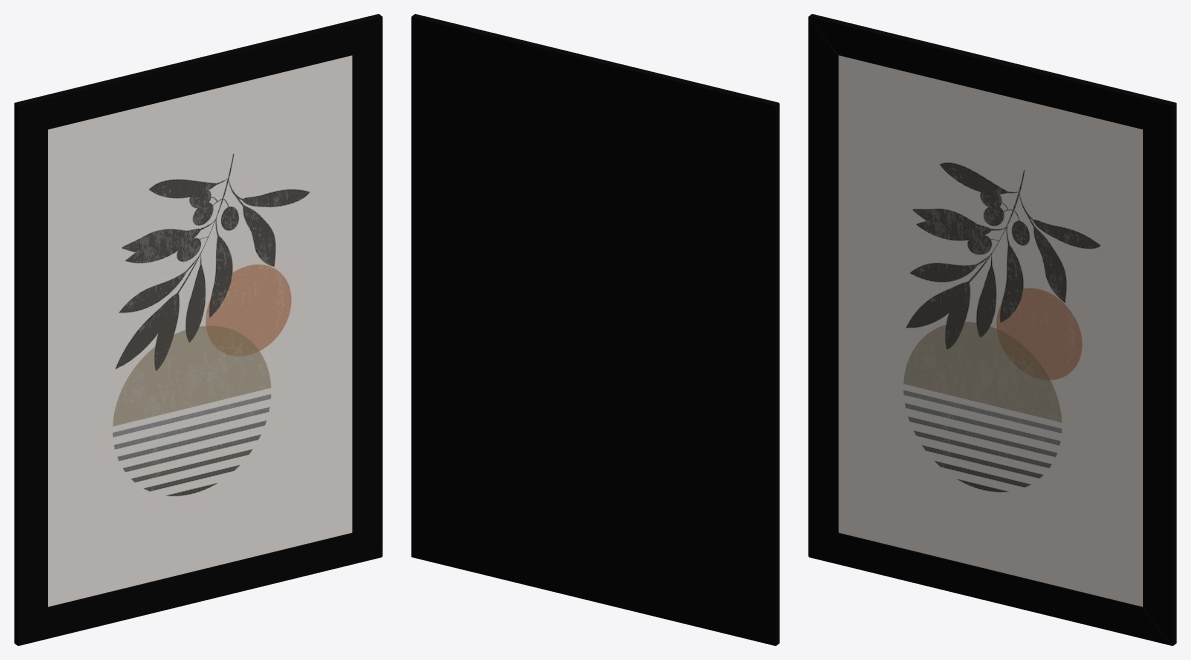
Rendered from paintingModel2.glb.
3 views of the same model, side by side, from view 1: azimuth 30°, elevation 25°; view 2: azimuth 150°, elevation 25°; view 3: azimuth 330°, elevation 25° (orthographic).
Visible parts, largest first — view 1: Plane.018, Plane.017; view 2: Plane.017; view 3: Plane.018, Plane.017.
Boxes of the visible parts, left/top/right/bottom form: Plane.018: left=48, top=55, right=352, bottom=606; Plane.017: left=14, top=14, right=382, bottom=645; Plane.017: left=411, top=14, right=779, bottom=645; Plane.018: left=838, top=55, right=1142, bottom=606; Plane.017: left=808, top=14, right=1176, bottom=645.
Bounding box in the file's own units: 0.048 × 0.068 × 0.000907.
3 materials, 1 textured.
